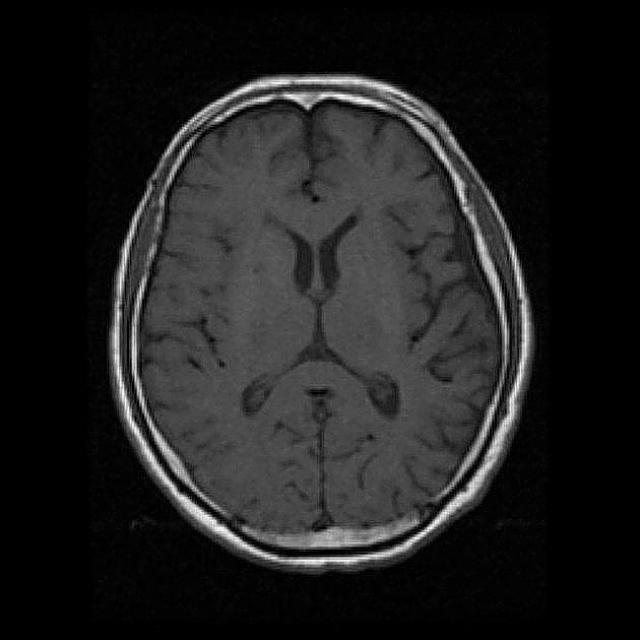notumor: (109, 75, 533, 573)
